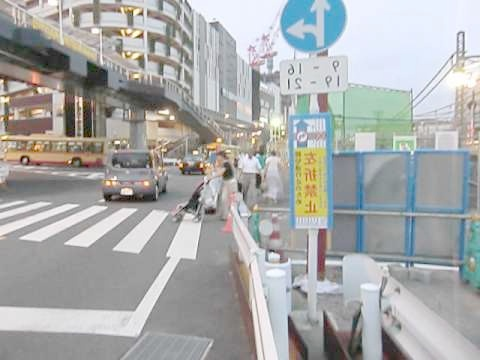Direction_sign: (286, 1, 350, 52)
